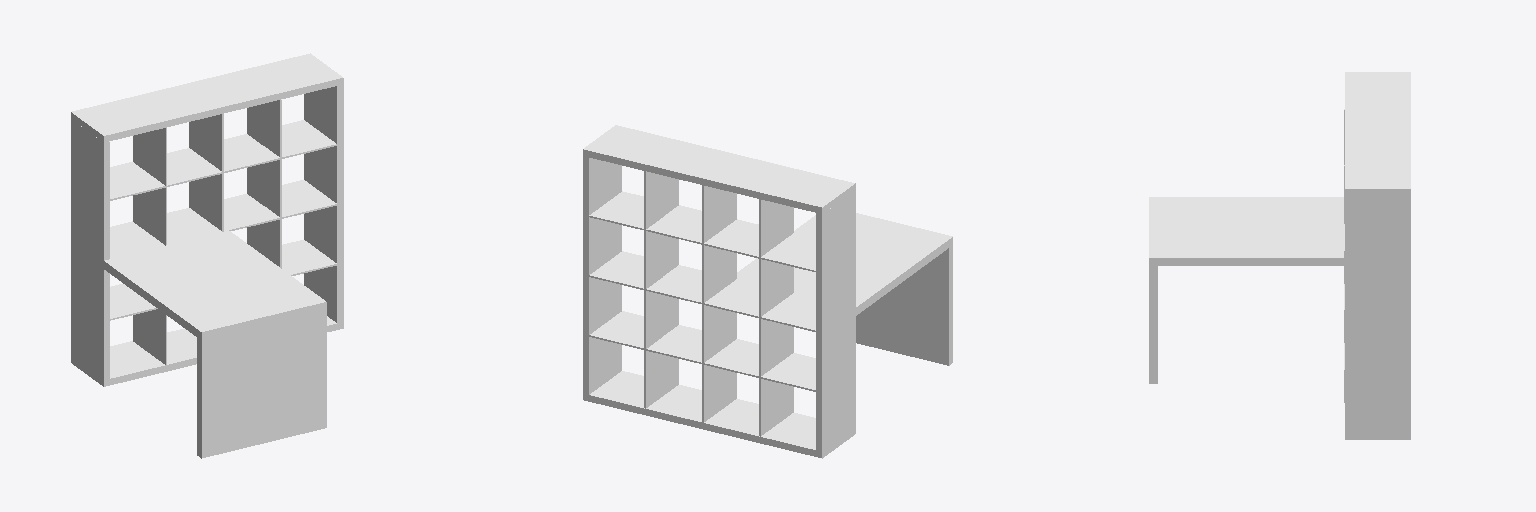
The model's file is ikea-bookcase-desk.obj.
3 renders of one model, left to right at view 1: azimuth 30°, elevation 25°; view 2: azimuth 150°, elevation 25°; view 3: azimuth 270°, elevation 25°, orthographic.
Visible parts, largest first — view 1: ikea-bookcase-desk; view 2: ikea-bookcase-desk; view 3: ikea-bookcase-desk.
Boxes of the visible parts, x1=… form: ikea-bookcase-desk: x1=71, y1=53, x2=343, y2=458; ikea-bookcase-desk: x1=583, y1=125, x2=952, y2=458; ikea-bookcase-desk: x1=1149, y1=72, x2=1410, y2=439.
Bounding box in the file's own units: 1.85 × 1.85 × 1.75.